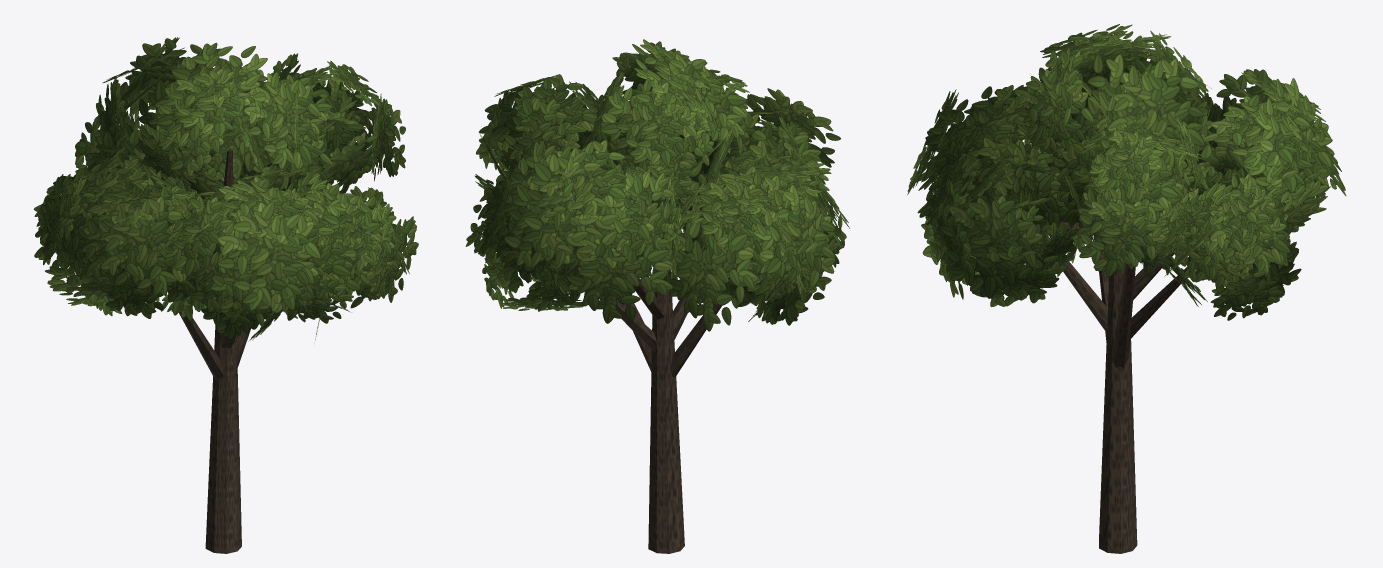
The model's file is quercia_2.glb.
3 renders of one model, left to right at view 1: azimuth 30°, elevation 25°; view 2: azimuth 150°, elevation 25°; view 3: azimuth 270°, elevation 25°, orthographic. The views are drawn at different scales.
Parts seen in each view (by area): view 1: quercia_2; view 2: quercia_2; view 3: quercia_2.
Part boxes in pixels (<box>): quercia_2: <box>34,37,418,553</box>; quercia_2: <box>465,39,849,553</box>; quercia_2: <box>907,24,1346,553</box>.
Bounding box in the file's own units: 11.16 × 14.71 × 11.79.
Materials: 2 (2 with a texture image).
